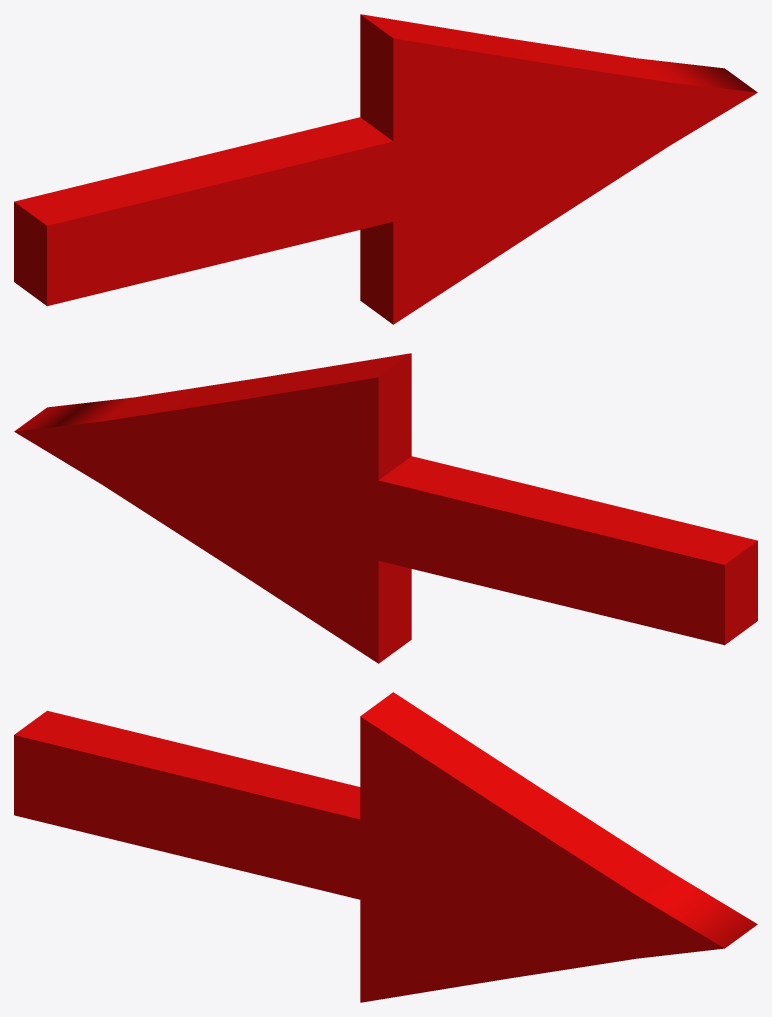
The model's file is Arrow.fbx.
The picture shows the model from 3 angles, top to bottom: view 1: azimuth 30°, elevation 25°; view 2: azimuth 150°, elevation 25°; view 3: azimuth 330°, elevation 25°; orthographic projection.
Parts seen in each view (by area): view 1: pCube1; view 2: pCube1; view 3: pCube1.
Part boxes in pixels (x1=…): pCube1: x1=14, y1=14, x2=757, y2=324; pCube1: x1=14, y1=353, x2=757, y2=663; pCube1: x1=14, y1=692, x2=757, y2=1002.
Bounding box in the file's own units: 41.07 × 15.81 × 3.32.
